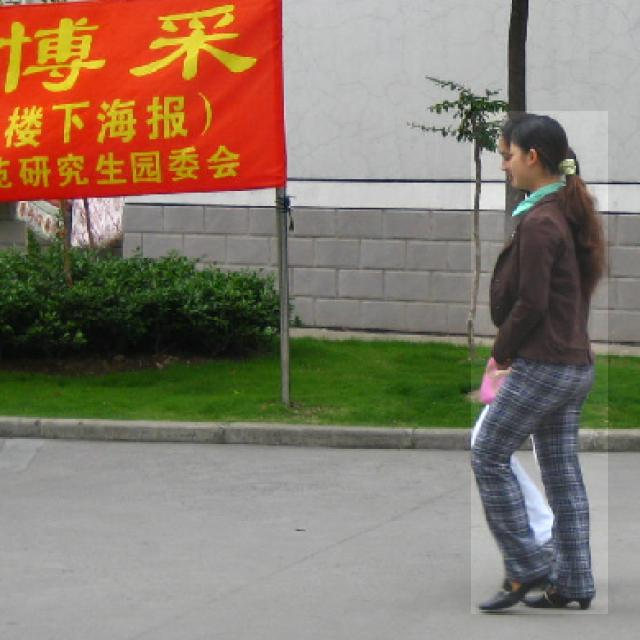with scooter: (471, 111, 608, 614)
